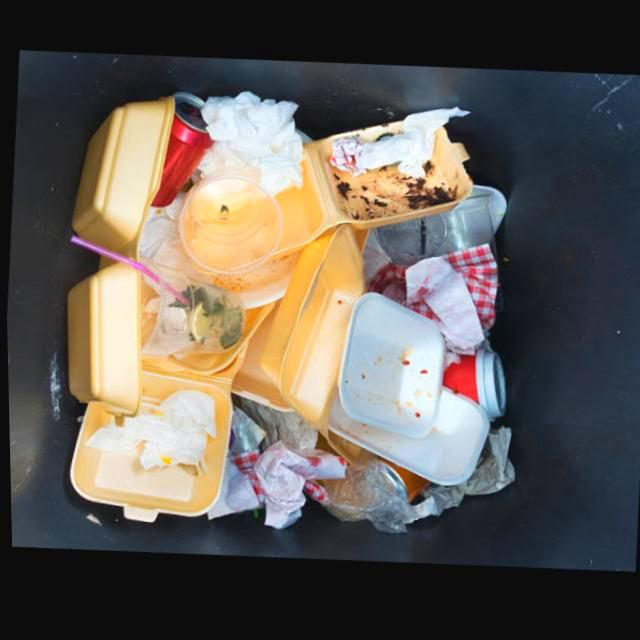aluminum: (149, 92, 212, 210)
plastic_bag: (305, 432, 433, 535)
plastic_container: (124, 257, 242, 355), (177, 171, 282, 274)
